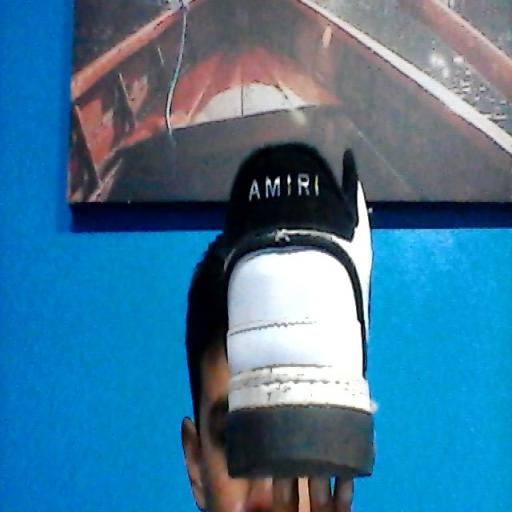shoe: (224, 144, 374, 478)
